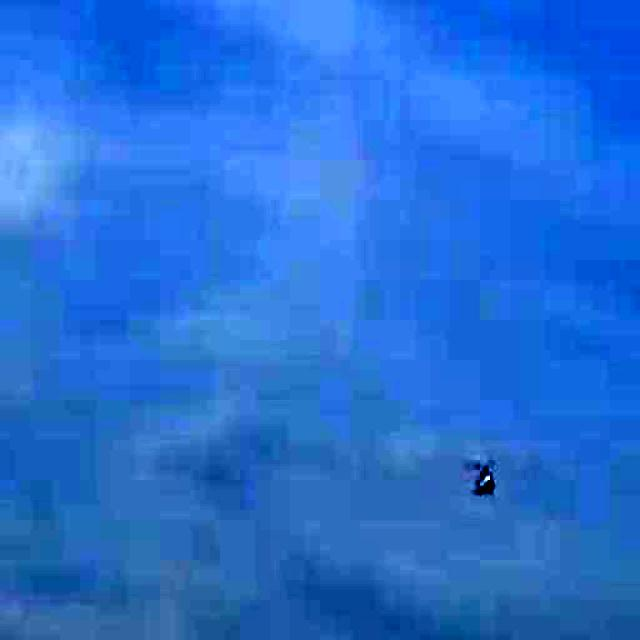drone: (444, 445, 522, 509)
